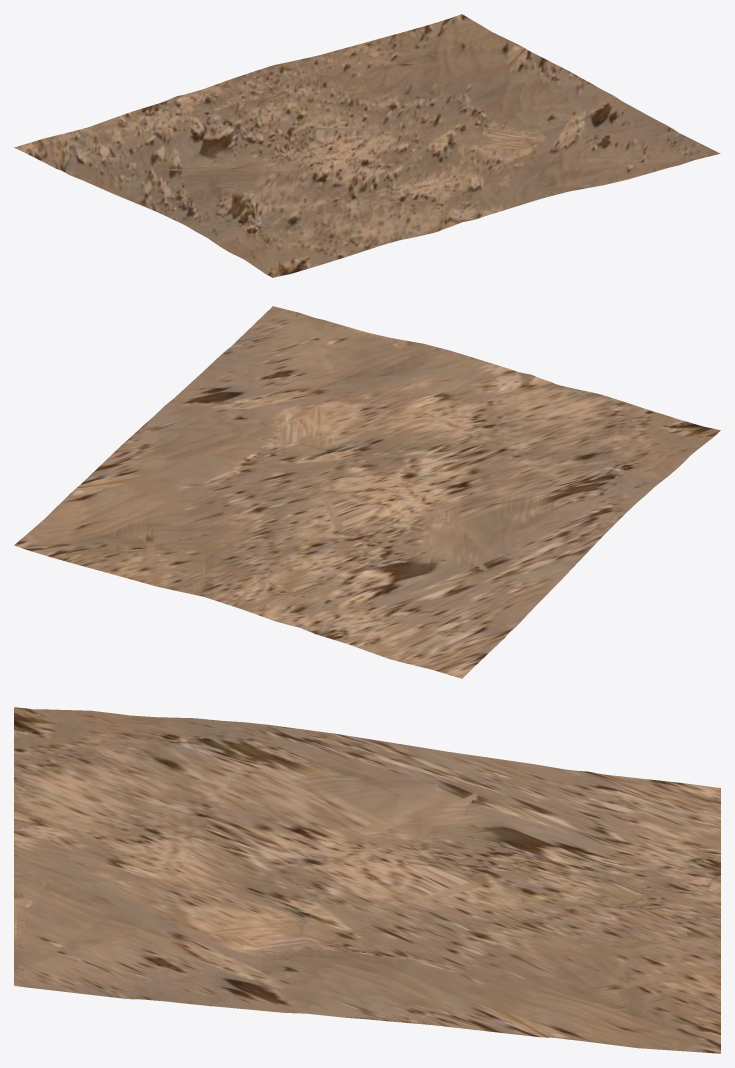
3 views of the same model, one above another, from view 1: azimuth 30°, elevation 25°; view 2: azimuth 150°, elevation 25°; view 3: azimuth 270°, elevation 25° (orthographic). The views are drawn at different scales.
Size of the model in its own units: 2.09 by 0.3295 by 2.09.
2 materials, 2 textured.
